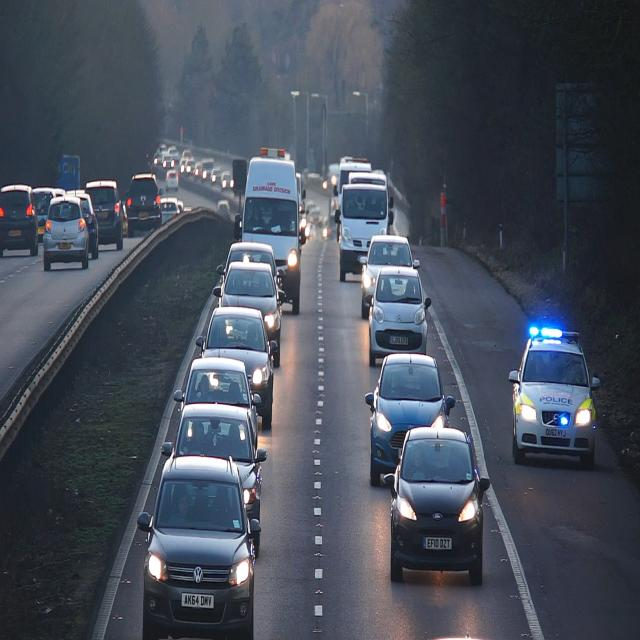emergency lights: (522, 310, 585, 350), (556, 411, 572, 431)
